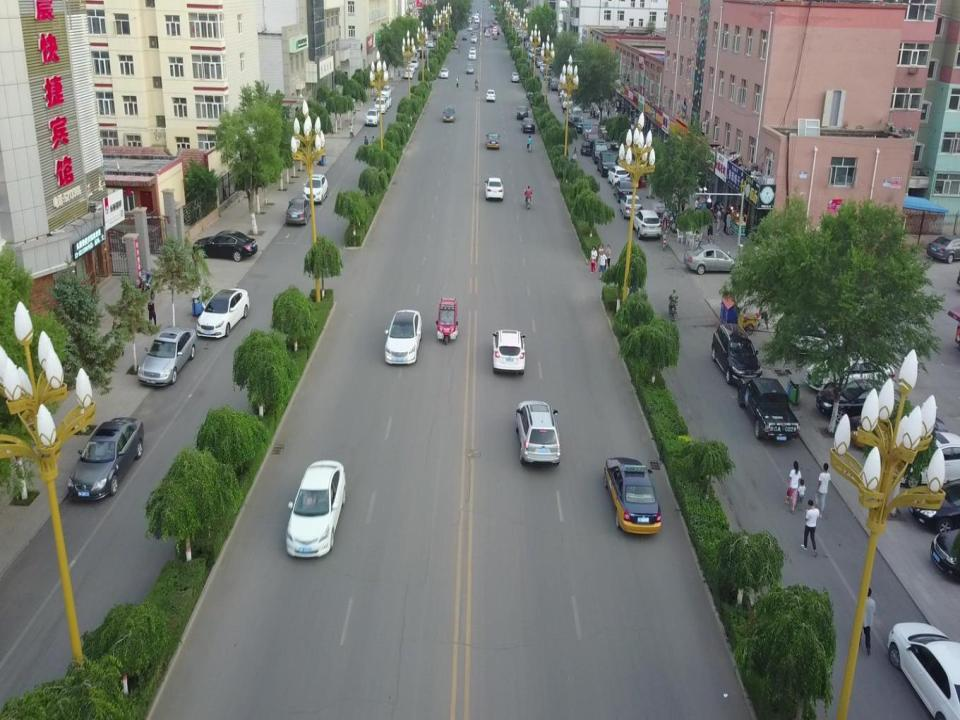car: (888, 622, 960, 720), (68, 418, 144, 500), (286, 458, 346, 558), (846, 406, 948, 456), (876, 431, 960, 489), (604, 458, 661, 534), (815, 378, 911, 422), (805, 350, 895, 396), (138, 327, 196, 385), (908, 474, 960, 535), (777, 317, 846, 360), (196, 288, 249, 338), (192, 229, 258, 262), (384, 309, 421, 362), (683, 244, 741, 275), (927, 234, 960, 264), (286, 198, 312, 224), (620, 195, 643, 218), (613, 180, 636, 202), (484, 177, 503, 200), (584, 132, 600, 150), (486, 130, 500, 149), (374, 97, 388, 113), (547, 76, 561, 92), (521, 118, 535, 132), (443, 106, 456, 121), (517, 106, 529, 120), (380, 95, 392, 109), (403, 69, 413, 79), (511, 71, 520, 82), (406, 64, 415, 74), (410, 59, 419, 69), (466, 63, 474, 74), (440, 68, 449, 77), (468, 47, 476, 56), (540, 64, 548, 73), (468, 52, 476, 59), (452, 41, 459, 49), (462, 34, 468, 40), (427, 41, 433, 47), (471, 36, 476, 43), (472, 31, 477, 38), (484, 30, 489, 37), (473, 25, 480, 29), (491, 20, 498, 24), (467, 26, 472, 31), (495, 29, 499, 35), (488, 23, 494, 27), (466, 18, 472, 22), (493, 34, 497, 39), (472, 14, 476, 19), (434, 35, 438, 40), (476, 12, 479, 16)
truck: (737, 378, 800, 440)
van: (712, 323, 762, 385), (516, 401, 560, 465), (493, 328, 526, 374), (631, 210, 661, 240), (302, 174, 328, 204), (597, 151, 619, 177), (607, 166, 630, 188), (592, 139, 608, 165), (566, 115, 586, 133), (580, 138, 599, 156), (364, 108, 380, 126), (570, 106, 583, 124), (558, 81, 575, 94), (562, 93, 572, 109), (379, 85, 391, 98), (542, 67, 553, 80), (536, 58, 548, 69), (486, 90, 496, 102), (419, 50, 426, 58), (474, 16, 479, 24), (484, 25, 488, 32), (493, 25, 497, 32), (493, 29, 497, 35)
